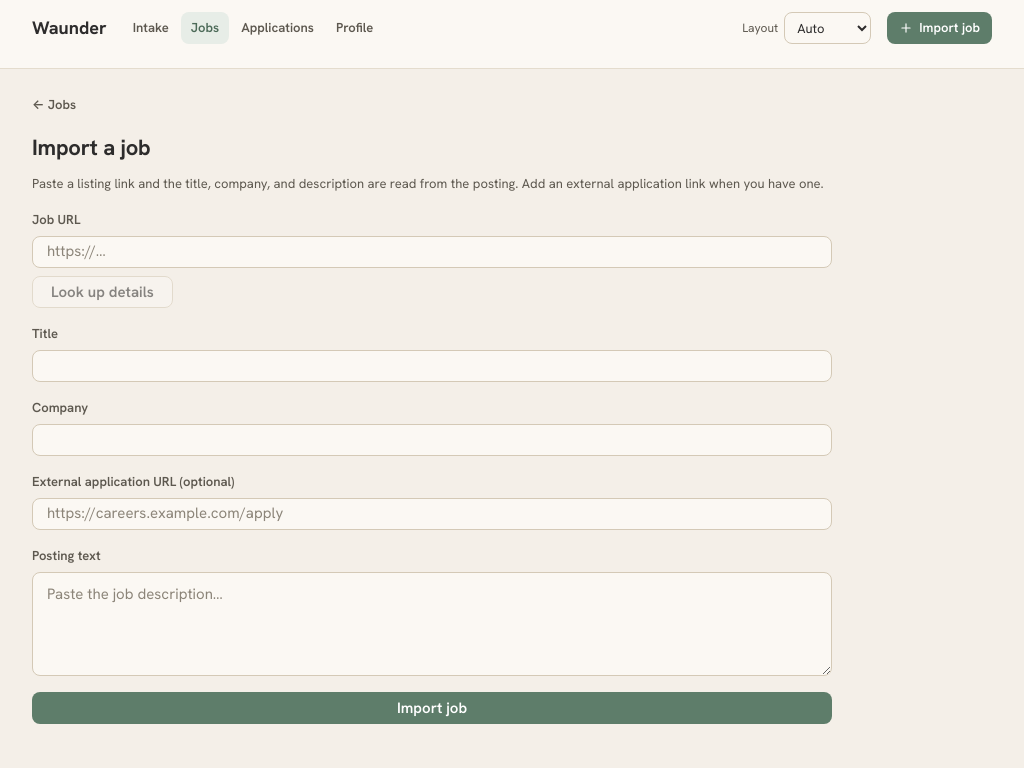
Test: posting lookup › keeps a field the owner types into while the lookup is still in flight
Type "https://www.linkedin.com/jobs/view/4435267449" into the field with class "manual-entry-url" at [432, 252], box [32,236,832,268]
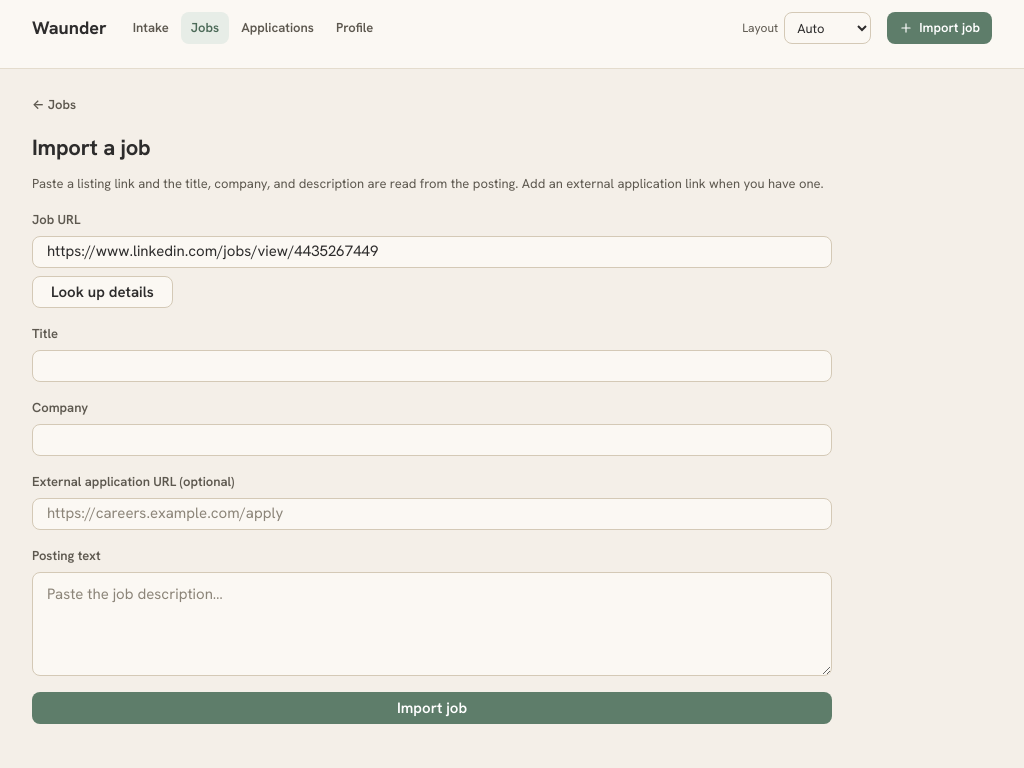
Leave the field with class "manual-entry-url", box [32,236,832,268]
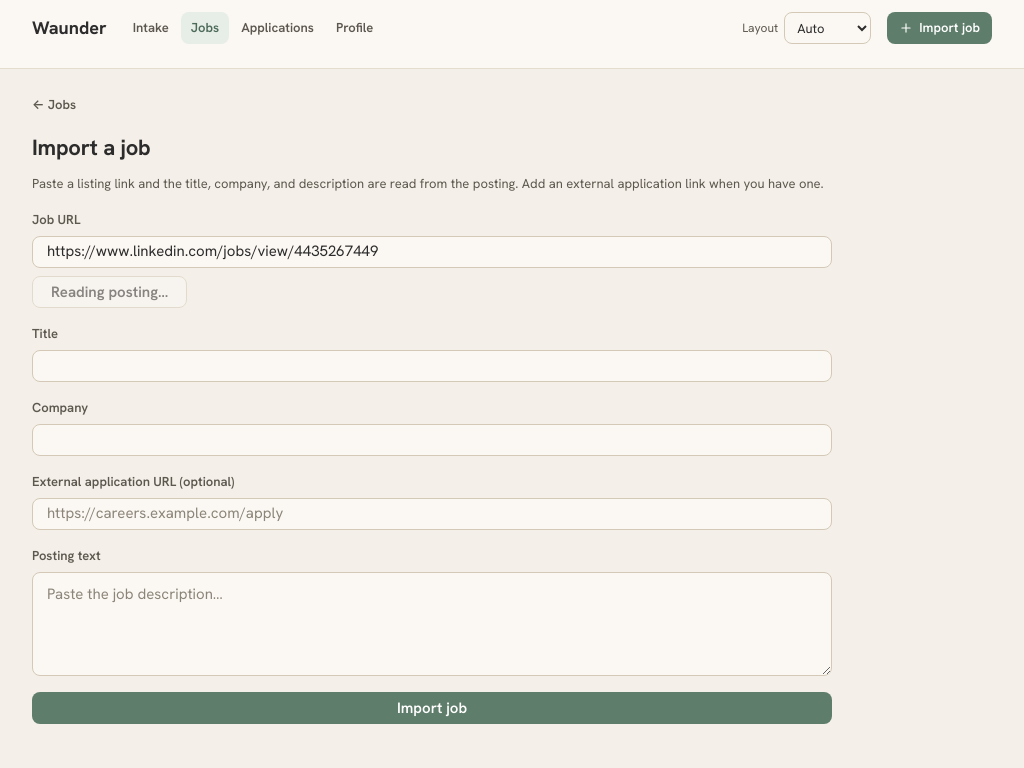
Check: the button with class "manual-entry-lookup-button" is disabled, box [32,276,187,308]
Check: the button with class "manual-entry-lookup-button" reads "Reading posting…", box [32,276,187,308]
Type "My own title" into the field with class "manual-entry-title" at [432, 366], box [32,350,832,382]
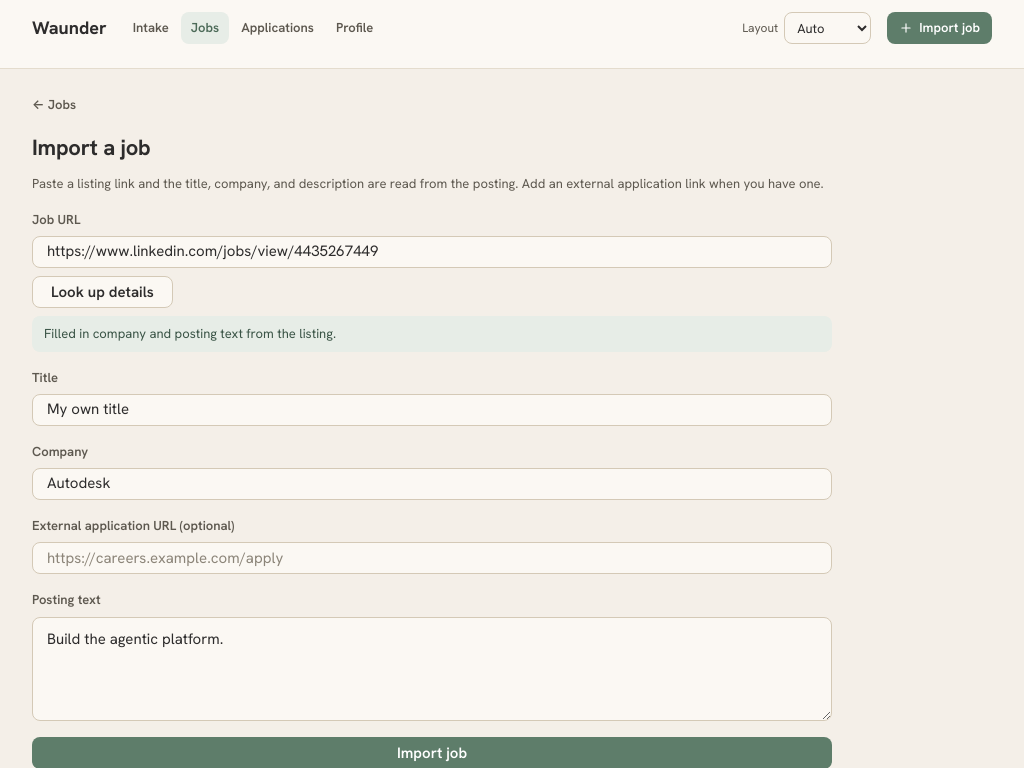
Check: the message "Filled in company and posting text from the listing." is shown, box [32,316,832,352]
